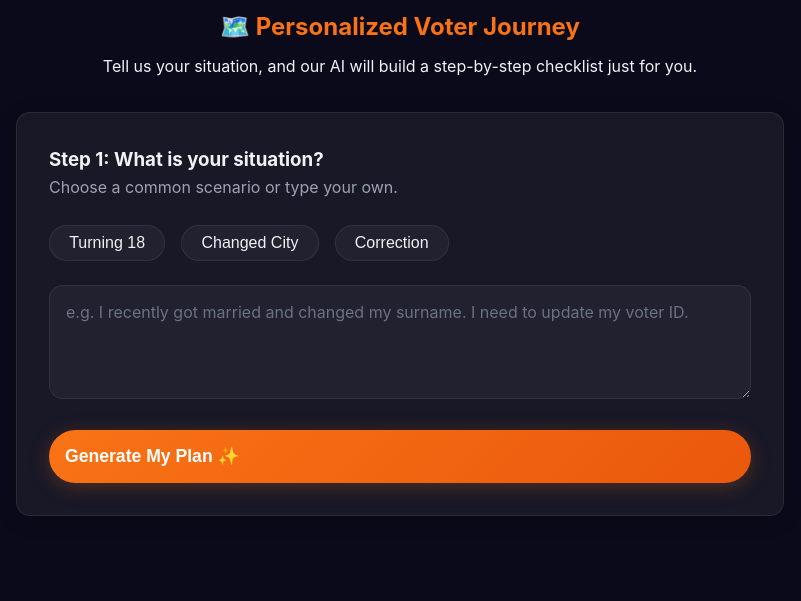
Test: VoterJourney Component › handles API errors and stays on step 1
Replace the text in the text box with placeholder "e.g. I recently got married" with "Test situation" at (400, 342), box [49,284,751,398]
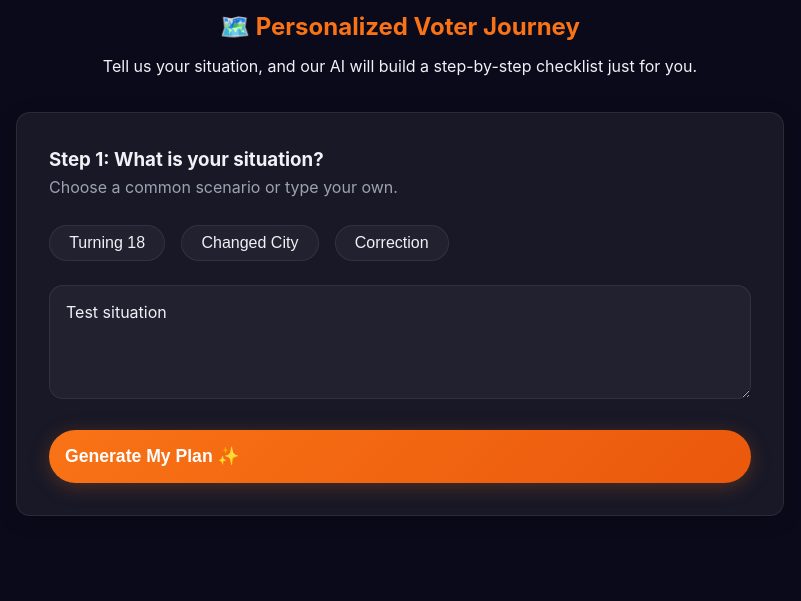
Click the button "Generate My Plan ✨".
click(152, 456)  # box [49,430,751,483]
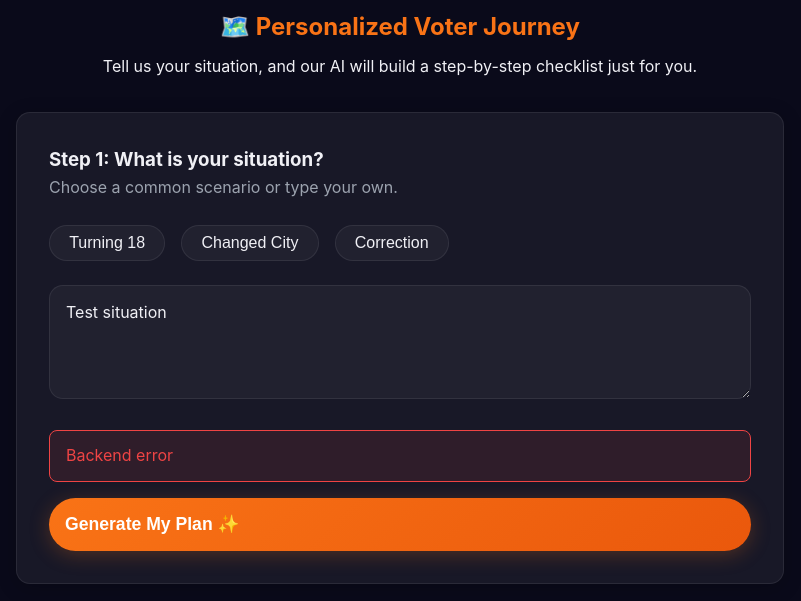
Check: the heading "Step 1: What is your situation?" is shown, box [49,148,324,171]
Check: the text "Backend error" is shown, box [49,430,751,482]
